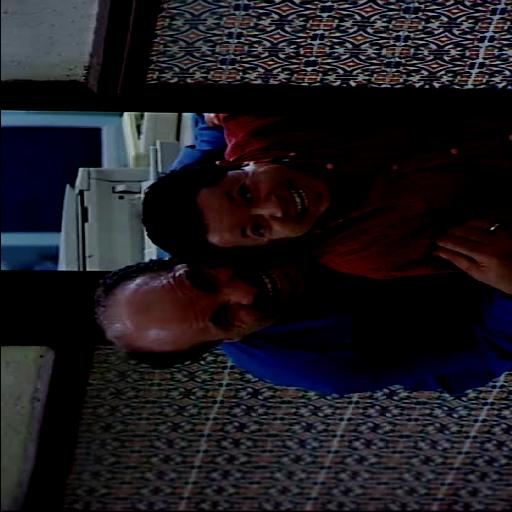beji_matrix: (96, 254, 306, 360)
fouchika: (143, 160, 332, 256)
